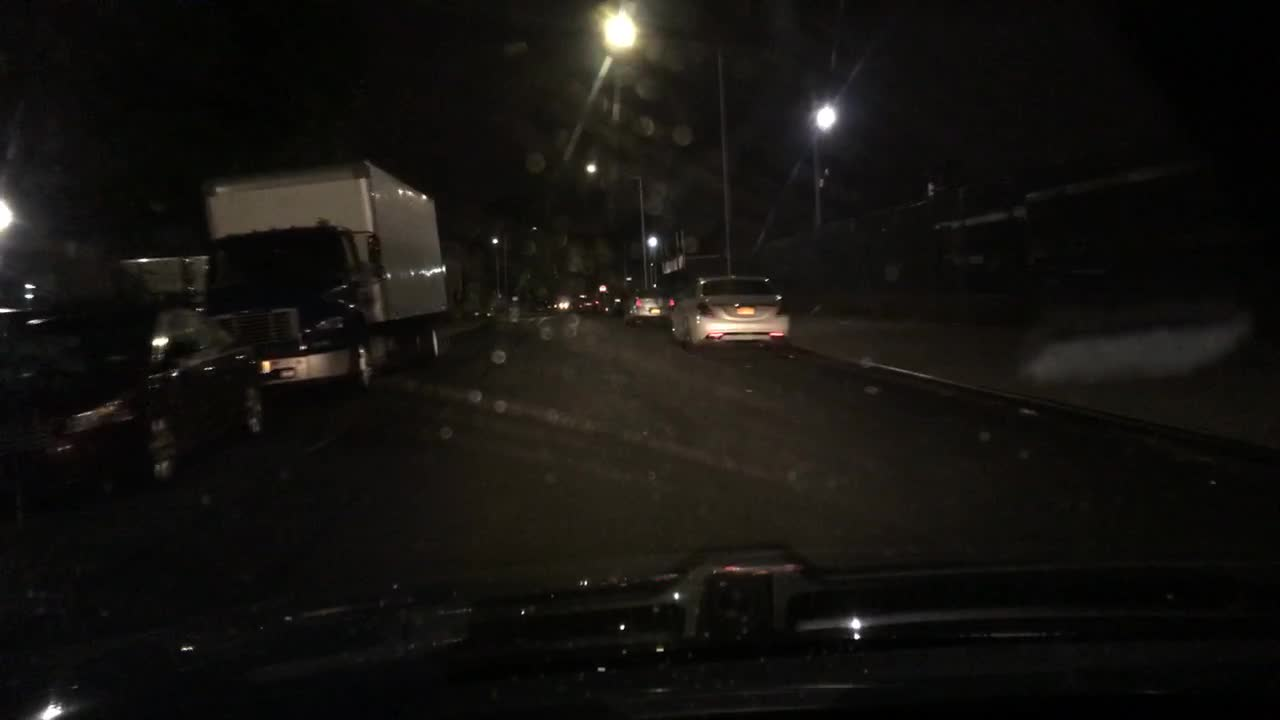car: (0, 296, 269, 497), (666, 272, 794, 358), (620, 286, 677, 328), (570, 290, 601, 312), (599, 292, 624, 315), (534, 296, 558, 313)
truck: (195, 156, 452, 402)
